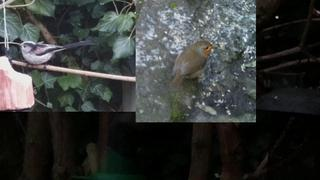long tailed tit: (18, 40, 96, 70)
robin: (169, 40, 216, 91)
